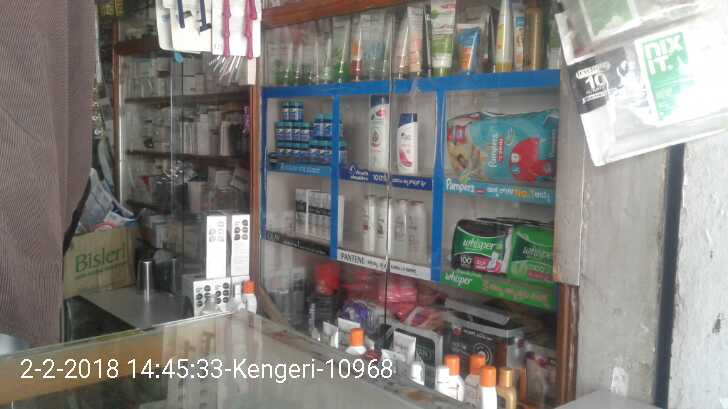beauty: (365, 95, 390, 170), (394, 111, 420, 171), (308, 190, 332, 245), (406, 198, 425, 263), (373, 194, 392, 255), (360, 192, 376, 255), (390, 200, 406, 262), (290, 188, 307, 236)
pharmacy: (446, 107, 558, 185), (445, 216, 516, 276), (506, 222, 561, 281), (274, 96, 303, 120), (274, 141, 308, 161), (307, 140, 331, 163), (309, 117, 334, 137), (270, 120, 284, 141), (292, 120, 301, 143), (299, 119, 308, 141), (284, 120, 292, 142)
